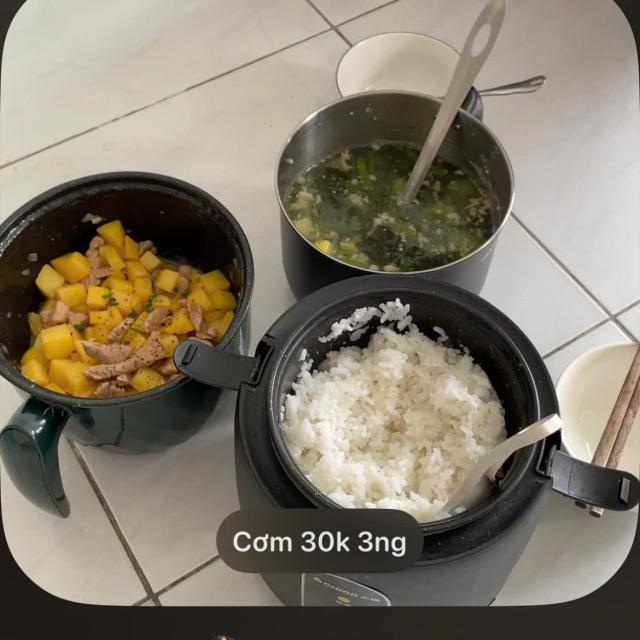canh_cai: (318, 147, 476, 262)
com_trang: (313, 326, 495, 504)
